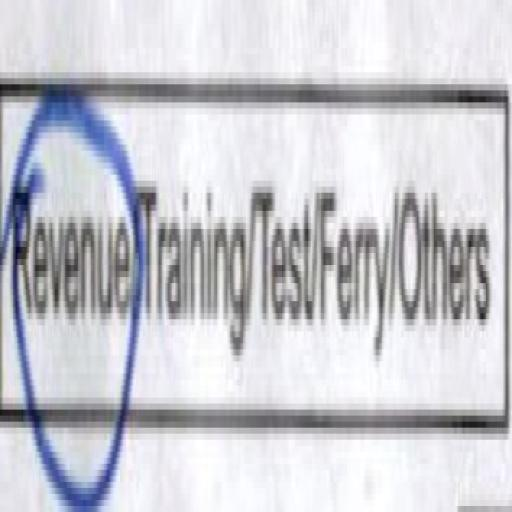check: (0, 48, 136, 512)
